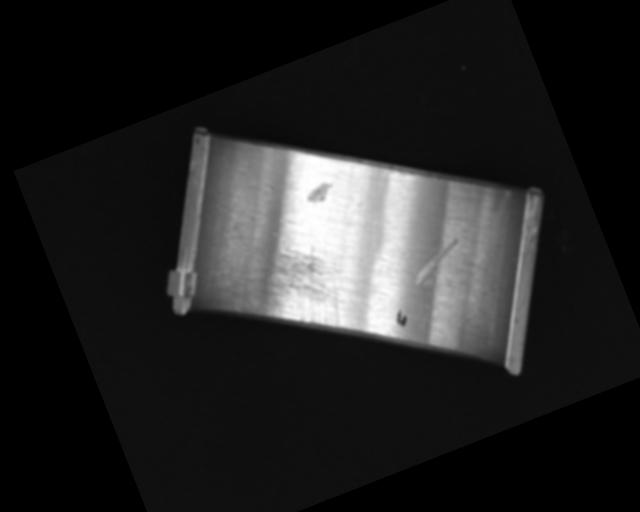blot: (392, 307, 410, 329)
bruise: (302, 179, 337, 207)
nick: (386, 262, 440, 346), (405, 238, 468, 288)
scratch: (224, 226, 361, 359)
